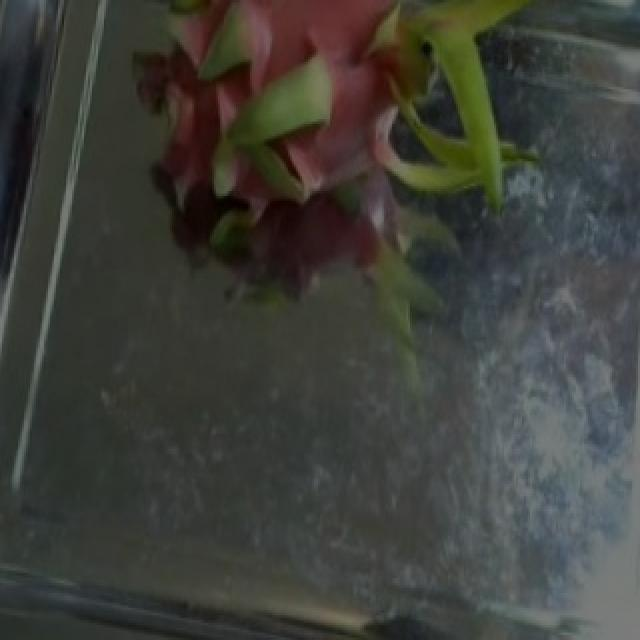fruit: (112, 0, 564, 387)
